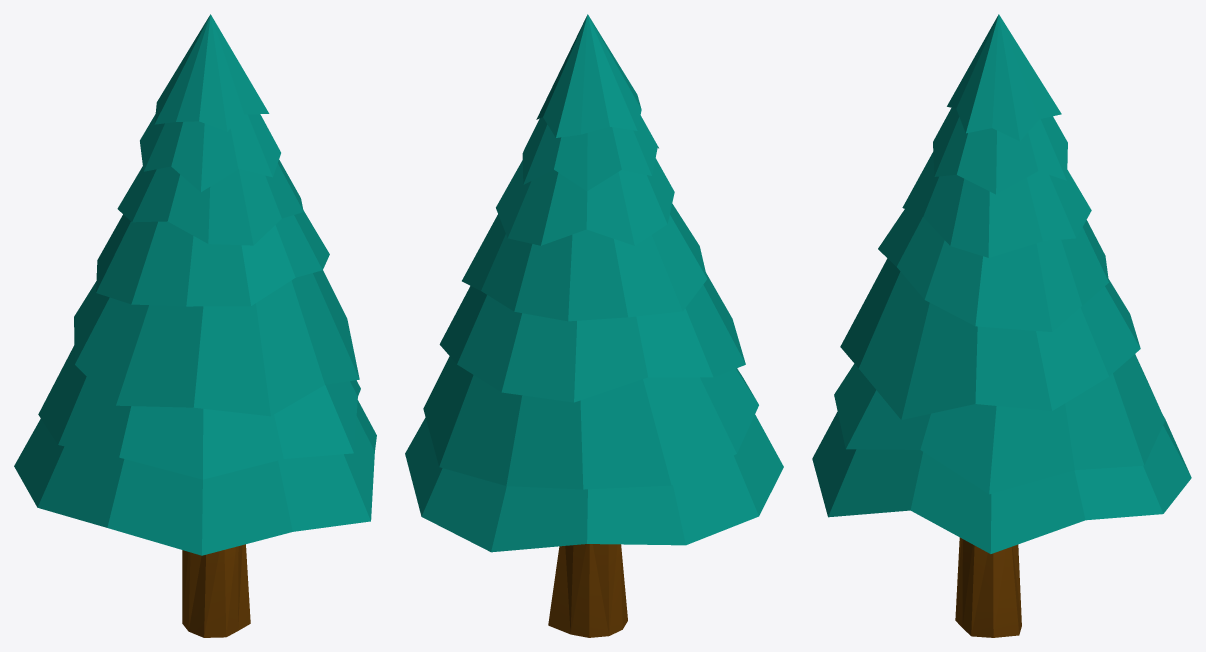
File: pineTree.glb
3 views of the same model, side by side, from view 1: azimuth 30°, elevation 25°; view 2: azimuth 150°, elevation 25°; view 3: azimuth 270°, elevation 25° (orthographic).
Parts seen in each view (by area): view 1: Tree; view 2: Tree; view 3: Tree.
Part boxes in pixels (x1,y1,x2,y2): Tree: (14,14,376,637); Tree: (405,14,783,637); Tree: (812,14,1191,637).
Bounding box in the file's own units: 1.49 × 2.59 × 1.46.
1 material, 1 textured.
